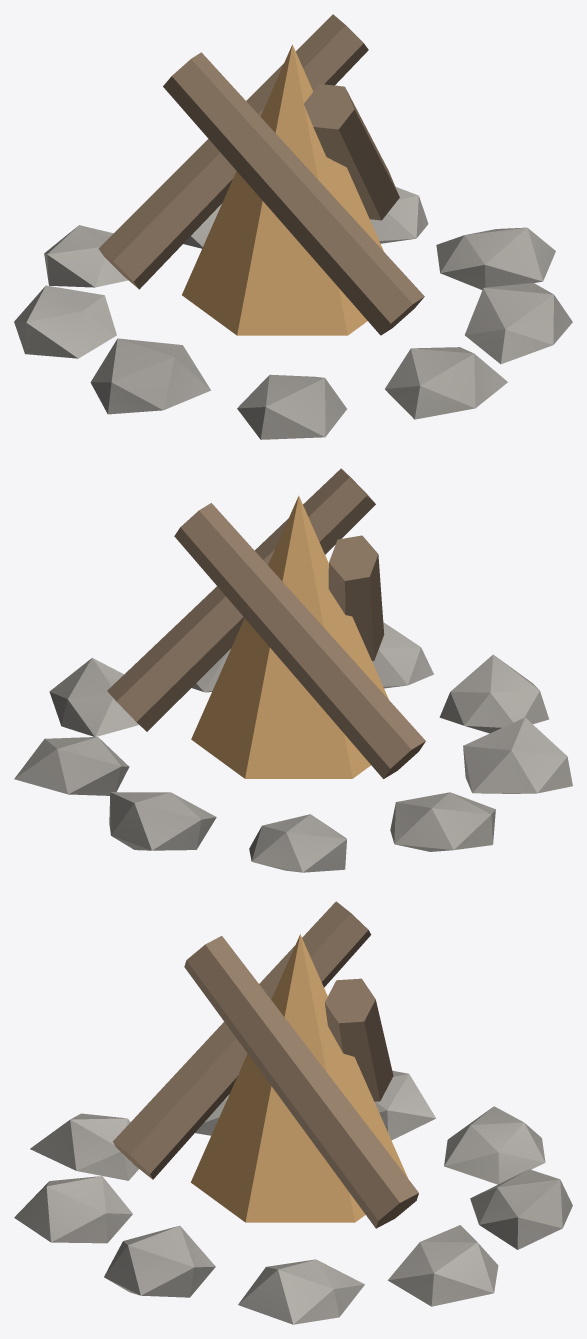
3 renders of one model, top to bottom at view 1: azimuth 30°, elevation 25°; view 2: azimuth 150°, elevation 25°; view 3: azimuth 270°, elevation 25°, orthographic. The views are drawn at different scales.
Visible parts, largest first — view 1: structure.campfire; view 2: structure.campfire; view 3: structure.campfire.
Part boxes in pixels (x1,y1,x2,y2): structure.campfire: (14,14,572,439); structure.campfire: (14,468,572,872); structure.campfire: (14,901,572,1324).
Size of the model in its own units: 1.54 by 0.83 by 1.53.
